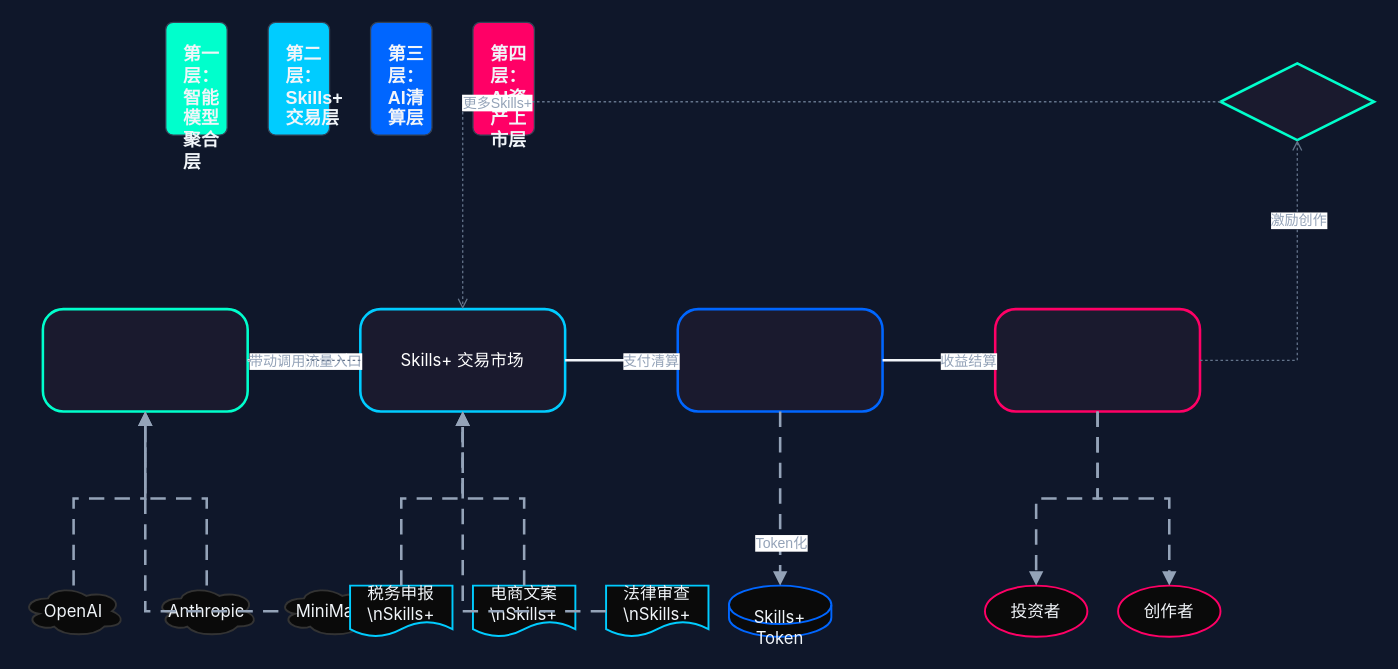
The diagram is 1398 pixels wide and 669 high, and some of its shapes have lost their labels. The shapes that lost their labels are listed below. From the top down, each one's centre as x and y in pixels, then its label:
the point at 1297,101: 正向飞轮
the point at 144,359: 统一模型网关
the point at 779,359: Web3 清算网络
the point at 1097,359: 资产上市平台
